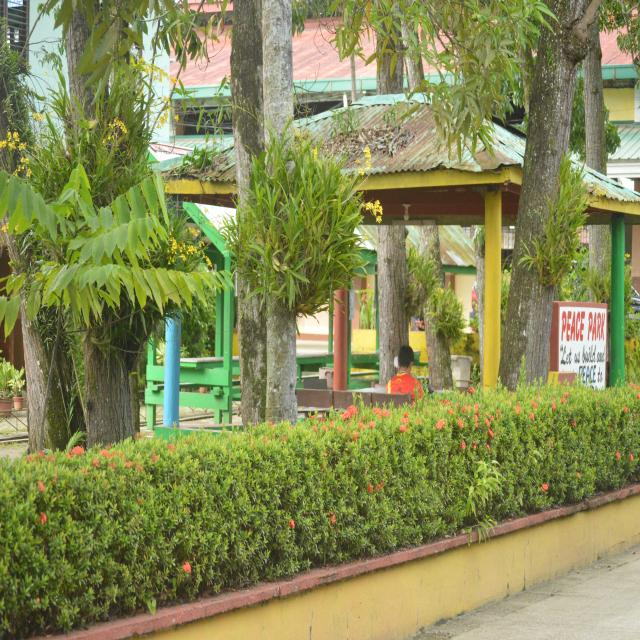person: (387, 346, 422, 401)
